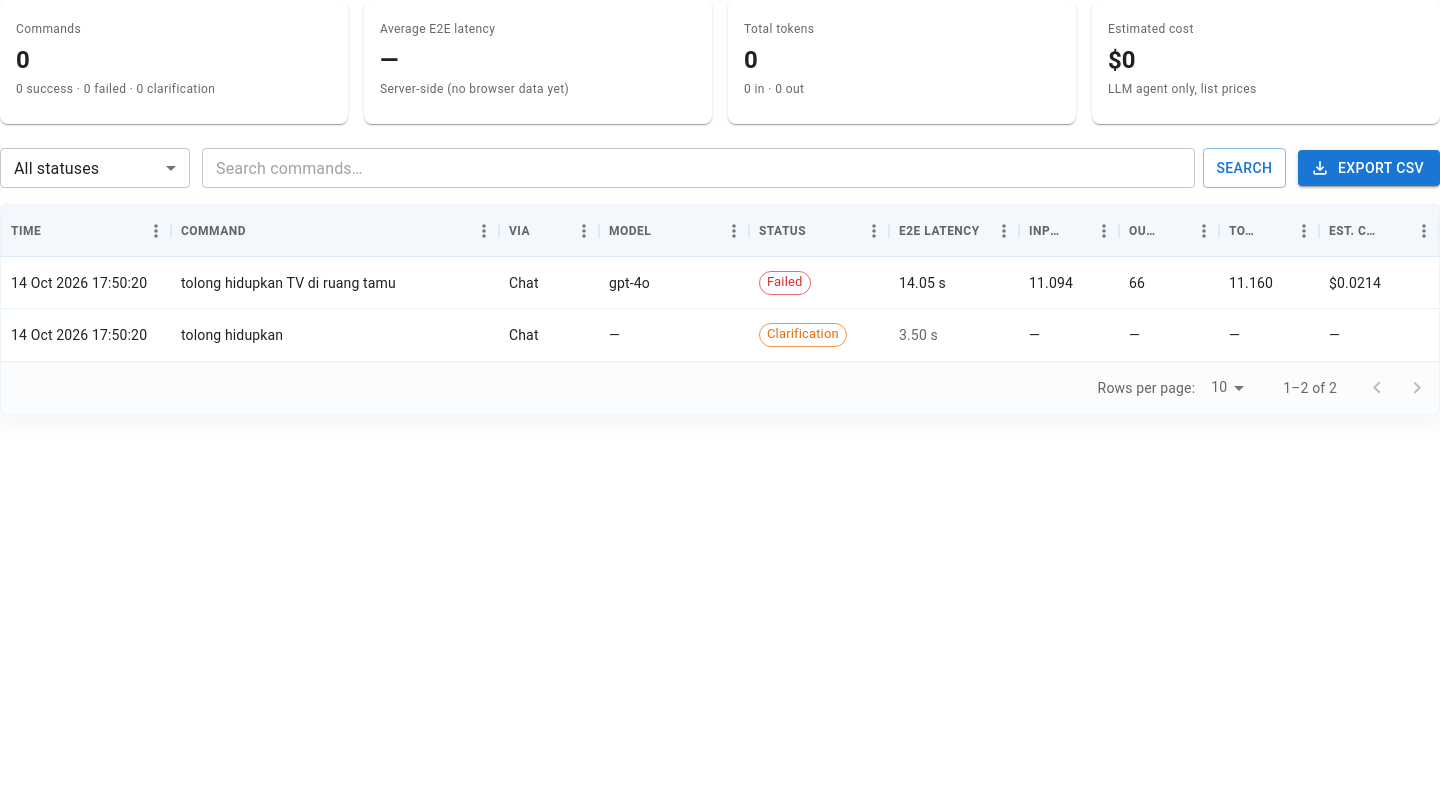
Test: AgentLogsView › opens the details of a command when its row is clicked
What coordinates should you click on to do the following:
click the text "tolong hidupkan TV di ruang tamu"
I would click on:
 (288, 282)
Its box is 181,272 -> 396,292.
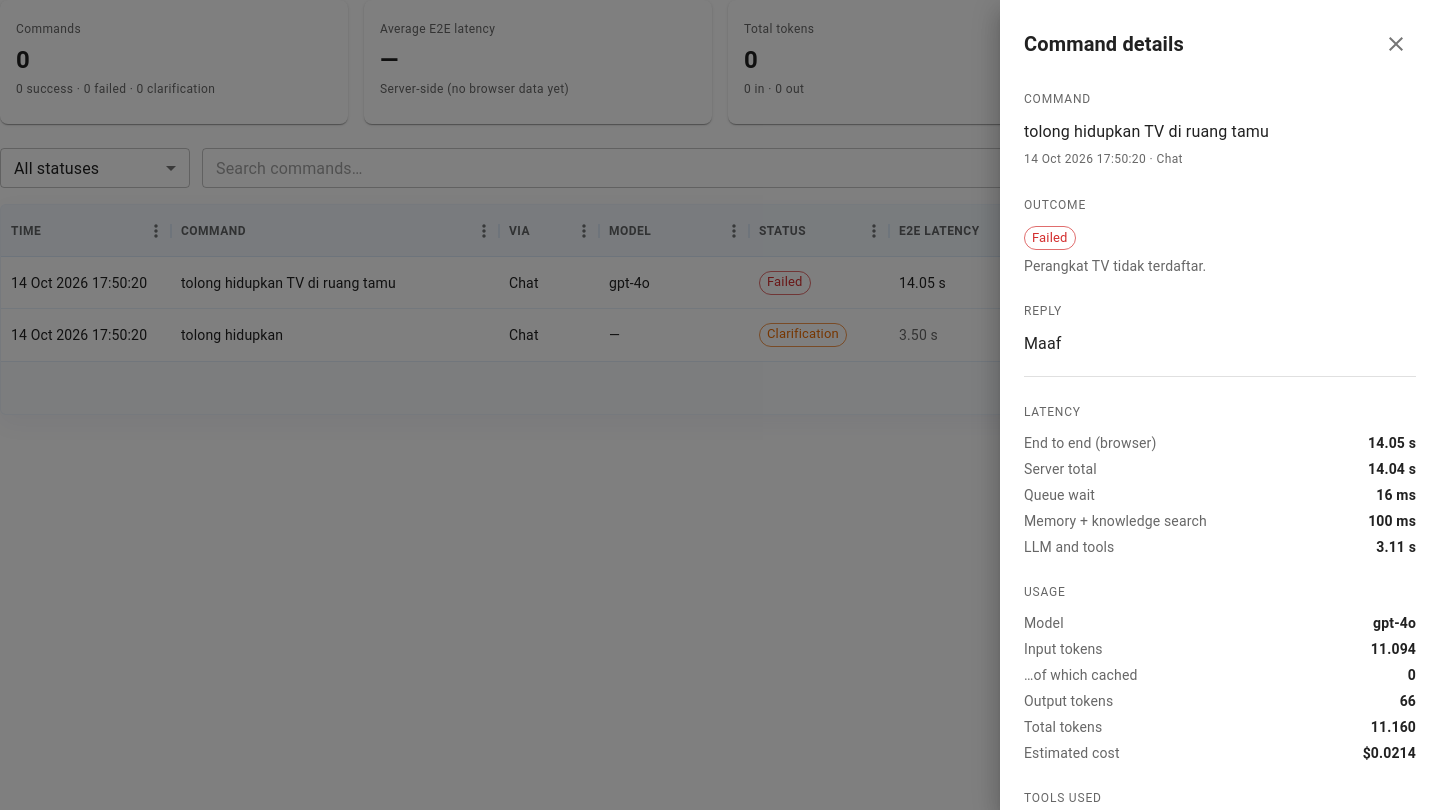
Check: the heading "Command details" is shown, box 1024,28 -> 1184,60
Check: the text "Perangkat TV tidak terdaftar." is shown, box 1024,258 -> 1206,274
